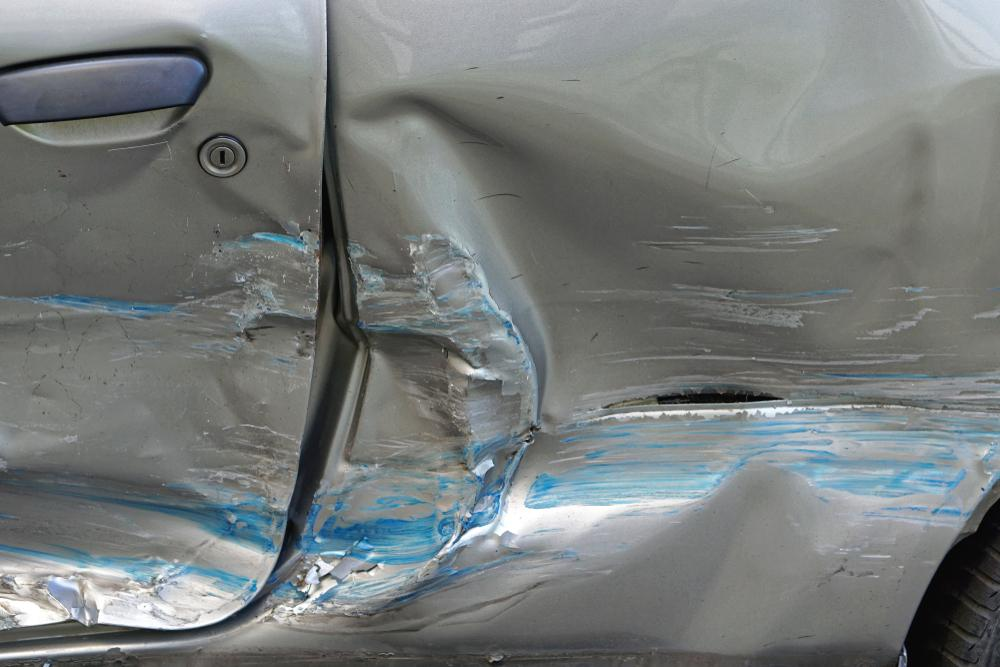crack: (603, 390, 794, 410)
dent: (295, 0, 1000, 661), (0, 49, 326, 630)
